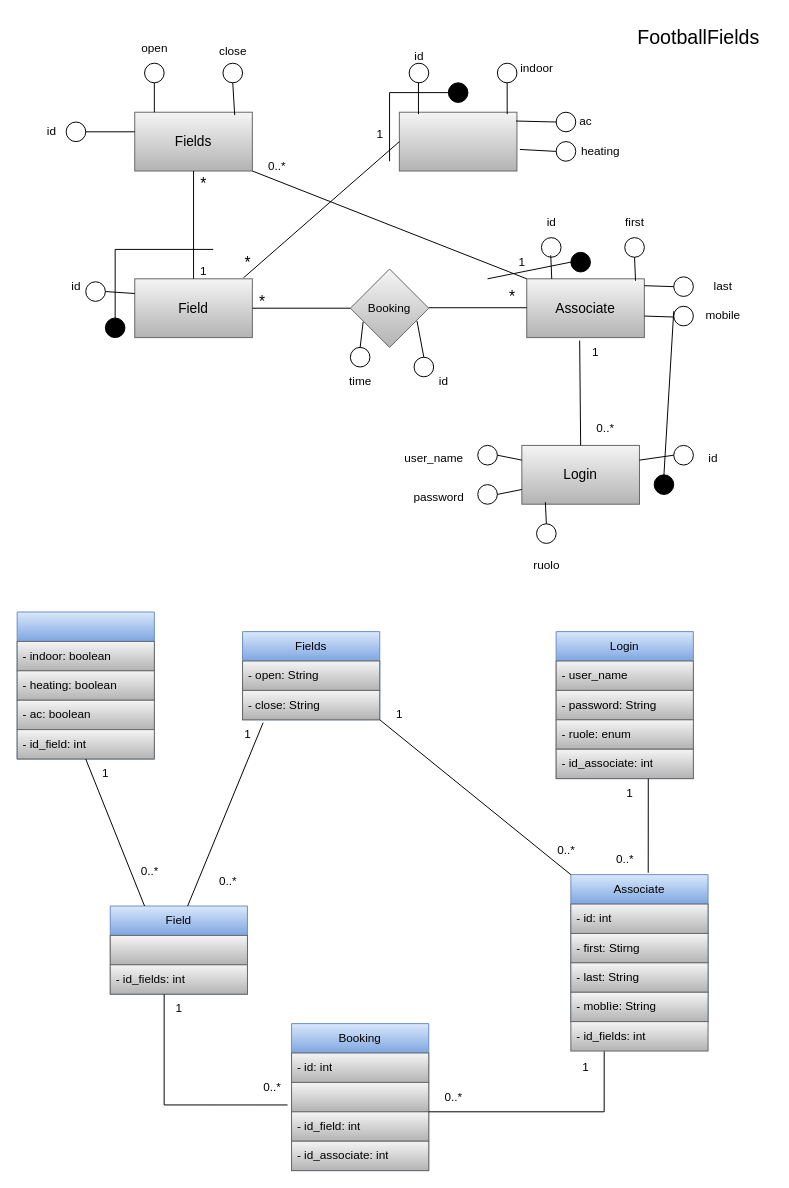
Image size: 789x1188. Some labels were removed from this diagram. The shapes that lost their labels are listed below. From the top down, each one's box as (x1, y1, x2, y2) in pixels, then its label:
(398, 111, 517, 171): Feature
(16, 611, 154, 759): Features
(109, 934, 247, 965): - id: iint
(291, 1081, 429, 1112): - time: String
